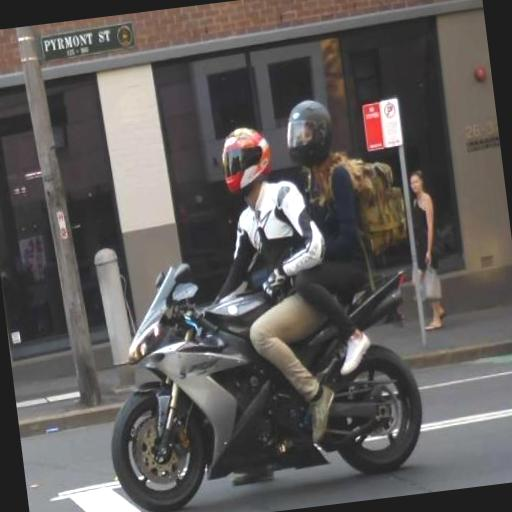helmet: (168, 98, 349, 512)
